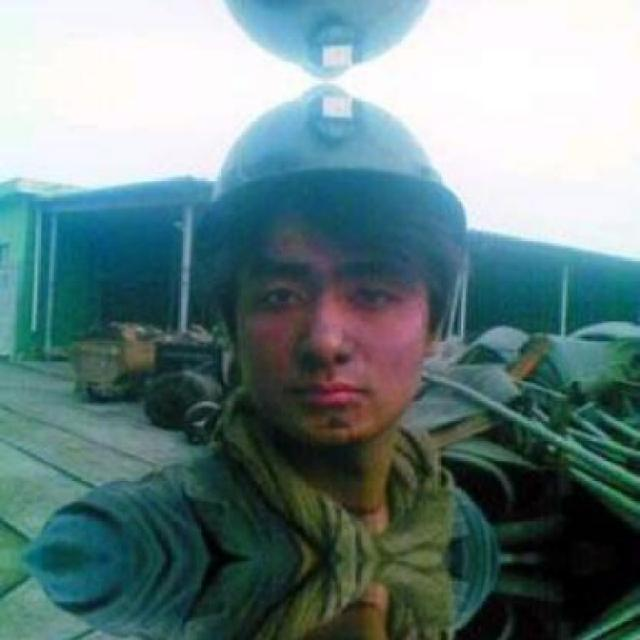helmet: (163, 79, 483, 478), (163, 0, 485, 82)
